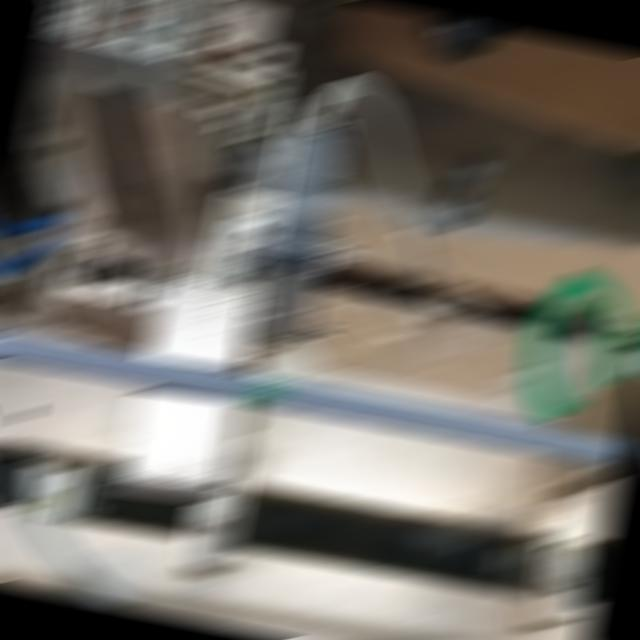green: (240, 374, 291, 409)
